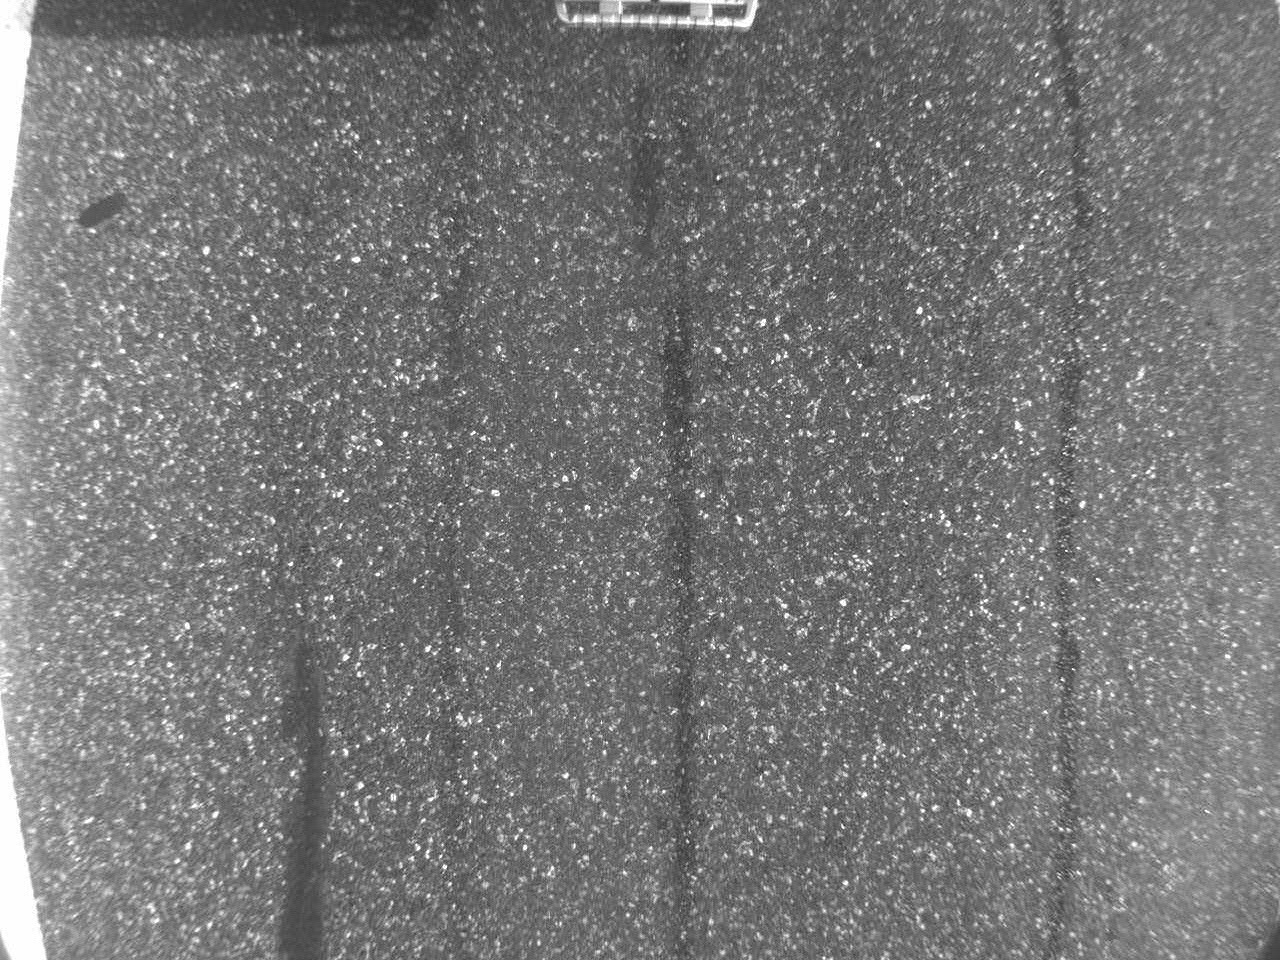sealed: (271, 639, 338, 948)
